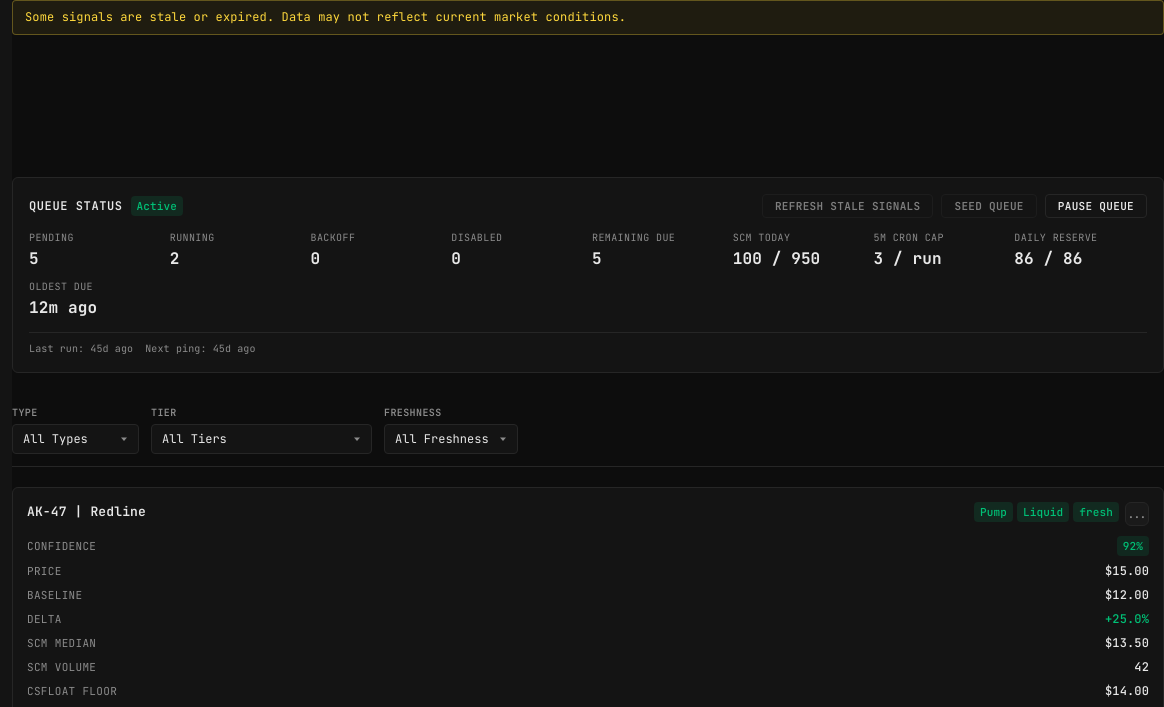
Test case: IntelligenceDashboard › pauses queue processing from the status panel
Click the button with aria-label "Pause signal processing". click: click(1096, 206)
box: [1045,194,1147,218]
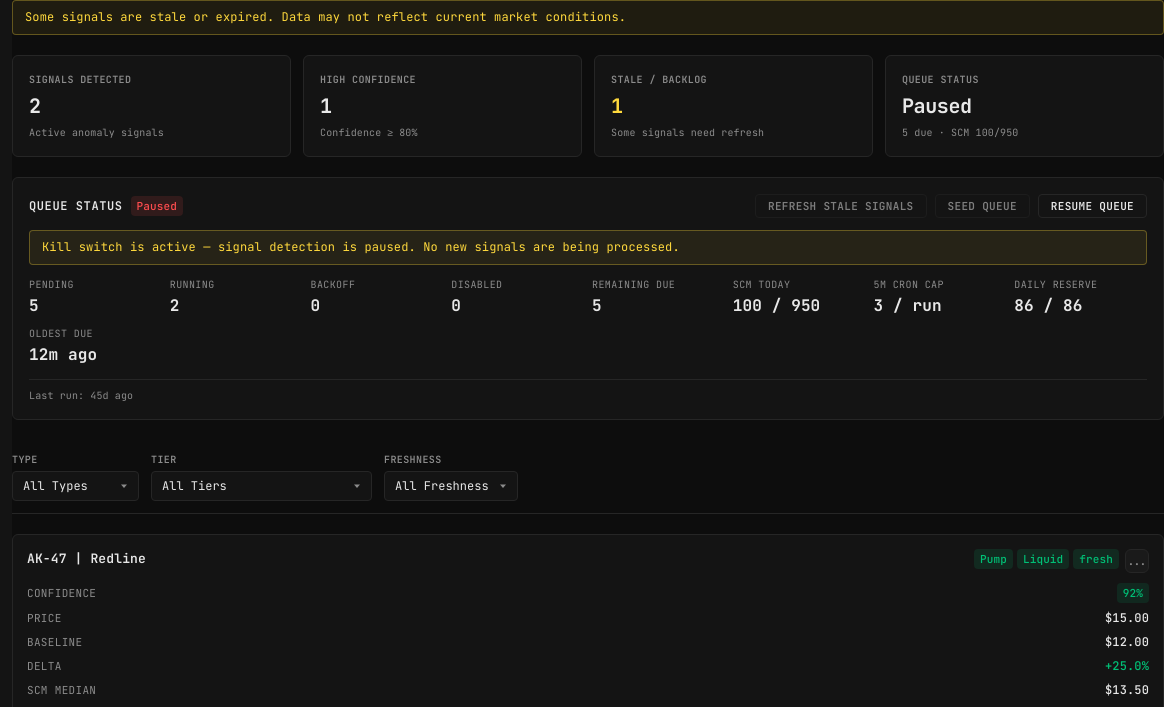
Result: the text "Kill switch is active" is shown at [42,239,680,255]
